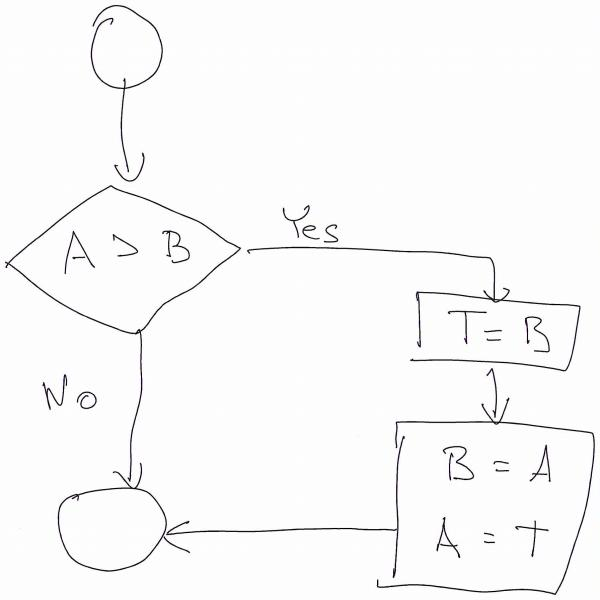arrow: (246, 244, 511, 301), (167, 515, 394, 545), (113, 336, 154, 478), (111, 84, 142, 184), (482, 364, 517, 429)
decision: (2, 184, 246, 345)
process: (391, 424, 588, 590), (410, 293, 573, 371)
terminator: (55, 479, 169, 578), (80, 1, 172, 94)
text: (64, 221, 196, 281), (450, 304, 558, 357), (431, 514, 559, 558), (438, 443, 565, 485), (35, 368, 104, 425), (268, 195, 343, 246)
